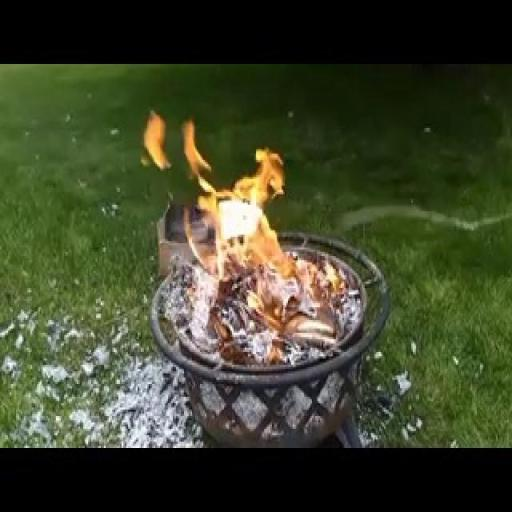smoke: (177, 129, 340, 366)
